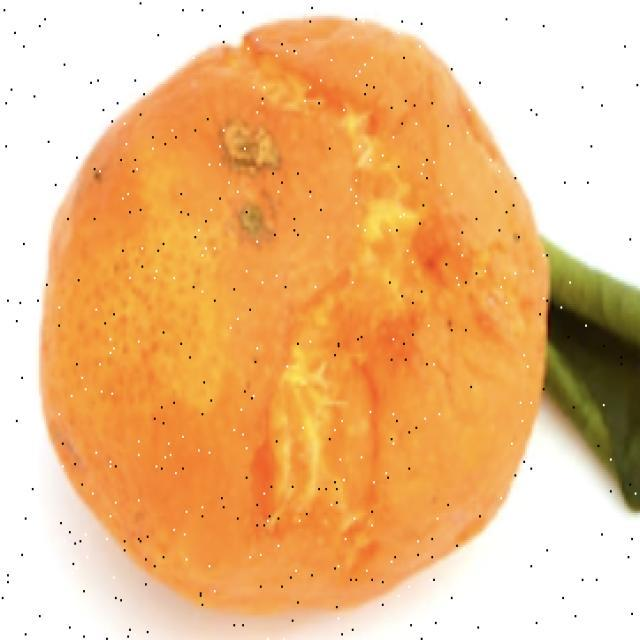sedikit-busuk: (42, 22, 547, 609)
